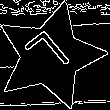L_SE: (22, 27, 79, 85)
